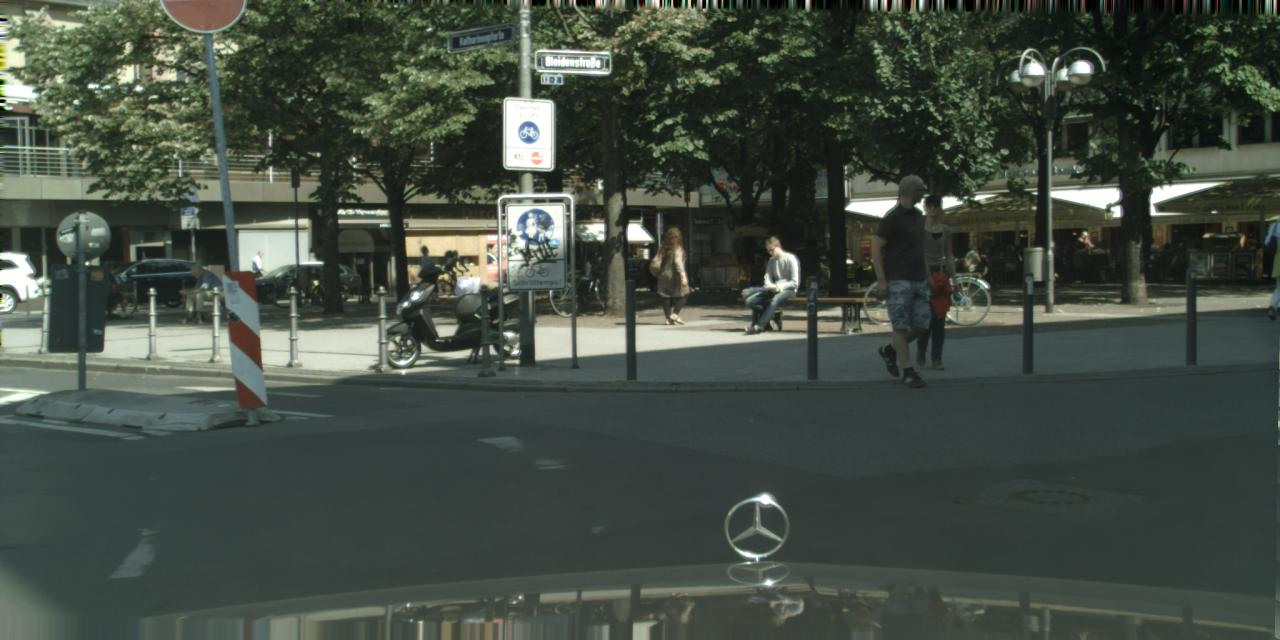ped: (862, 174, 946, 379), (896, 193, 967, 366), (654, 227, 694, 324), (965, 245, 1025, 282), (1053, 230, 1111, 255), (415, 245, 438, 302), (250, 249, 270, 298), (847, 251, 876, 283), (445, 249, 461, 290), (1174, 238, 1202, 250), (1146, 237, 1161, 249), (1162, 242, 1173, 249)
